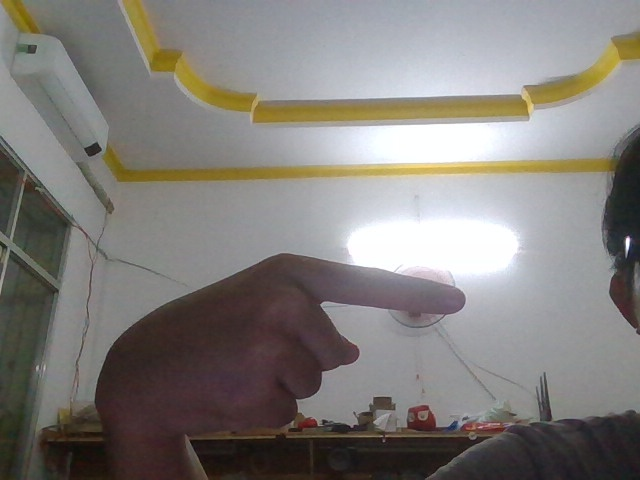turn_left: (76, 243, 477, 442)
